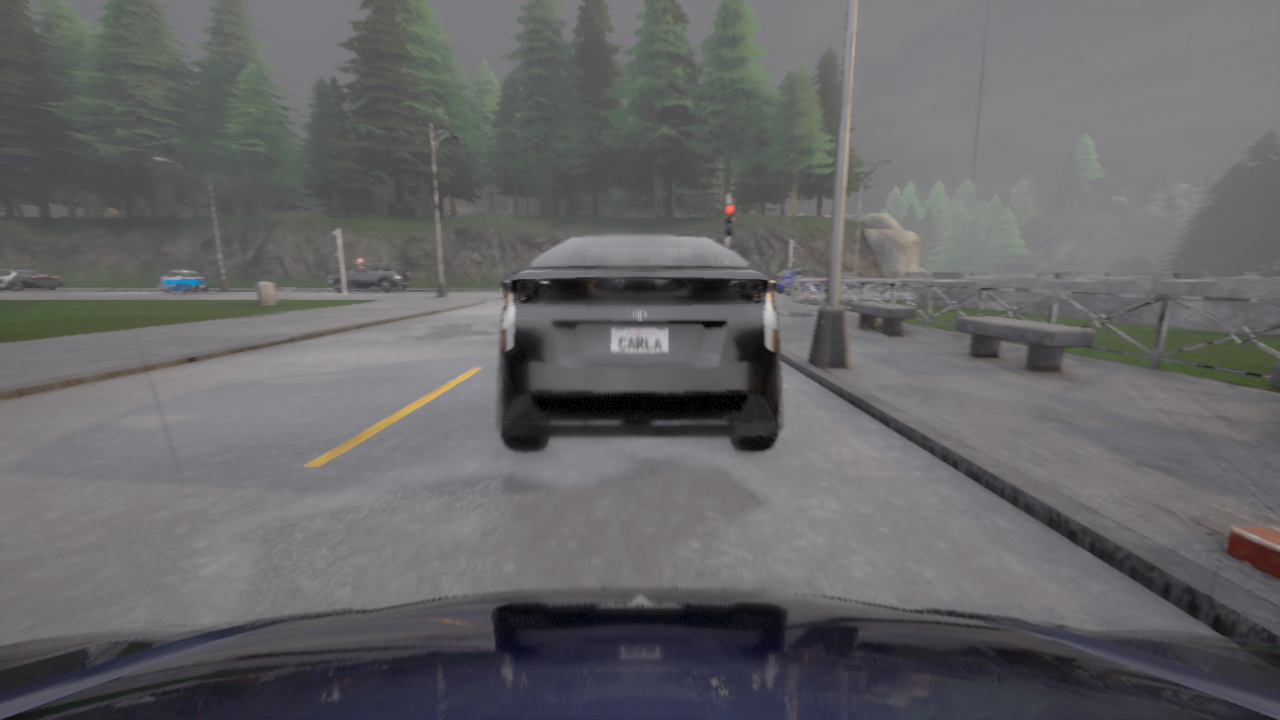cyclist: (0, 588, 1279, 719), (497, 234, 782, 451), (329, 262, 412, 292), (774, 268, 851, 294), (0, 267, 63, 292), (160, 271, 208, 292), (504, 266, 523, 276)
pedestrian: (931, 274, 932, 279)
